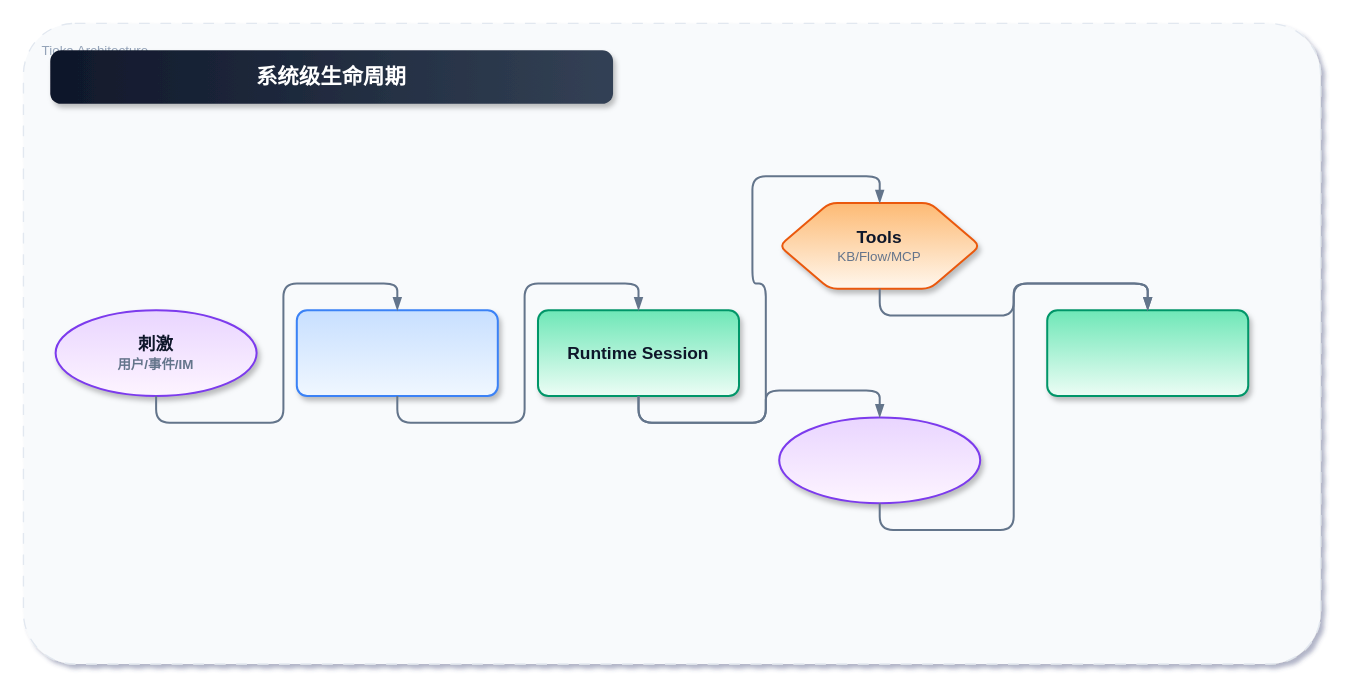
The diagram is 1352 pixels wide and 695 high, and some of its shapes have lost their labels. The shapes that lost their labels are listed below. From the top down, each one's centre as x and y in pixels, then its label:
At (x=398, y=354): "Chat|Orch|Flow".
At (x=1148, y=354): "写回 Chat/IM/ 业务/知识".
At (x=880, y=461): "Part/Attention".
